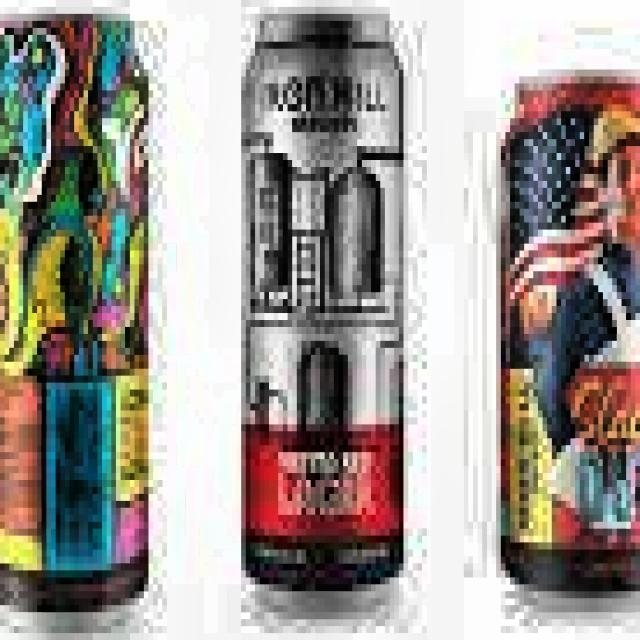metal: (230, 0, 415, 633), (0, 0, 153, 640), (482, 49, 640, 626)
